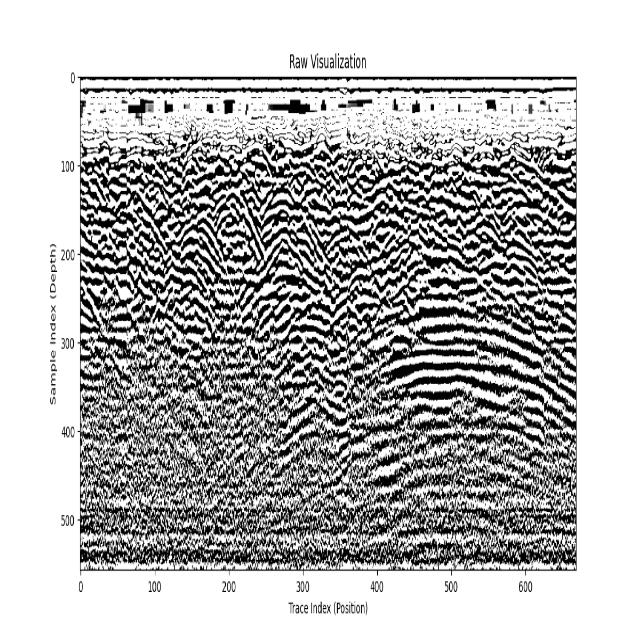anomaly: (374, 304, 576, 432), (138, 185, 244, 354), (252, 184, 344, 358)
